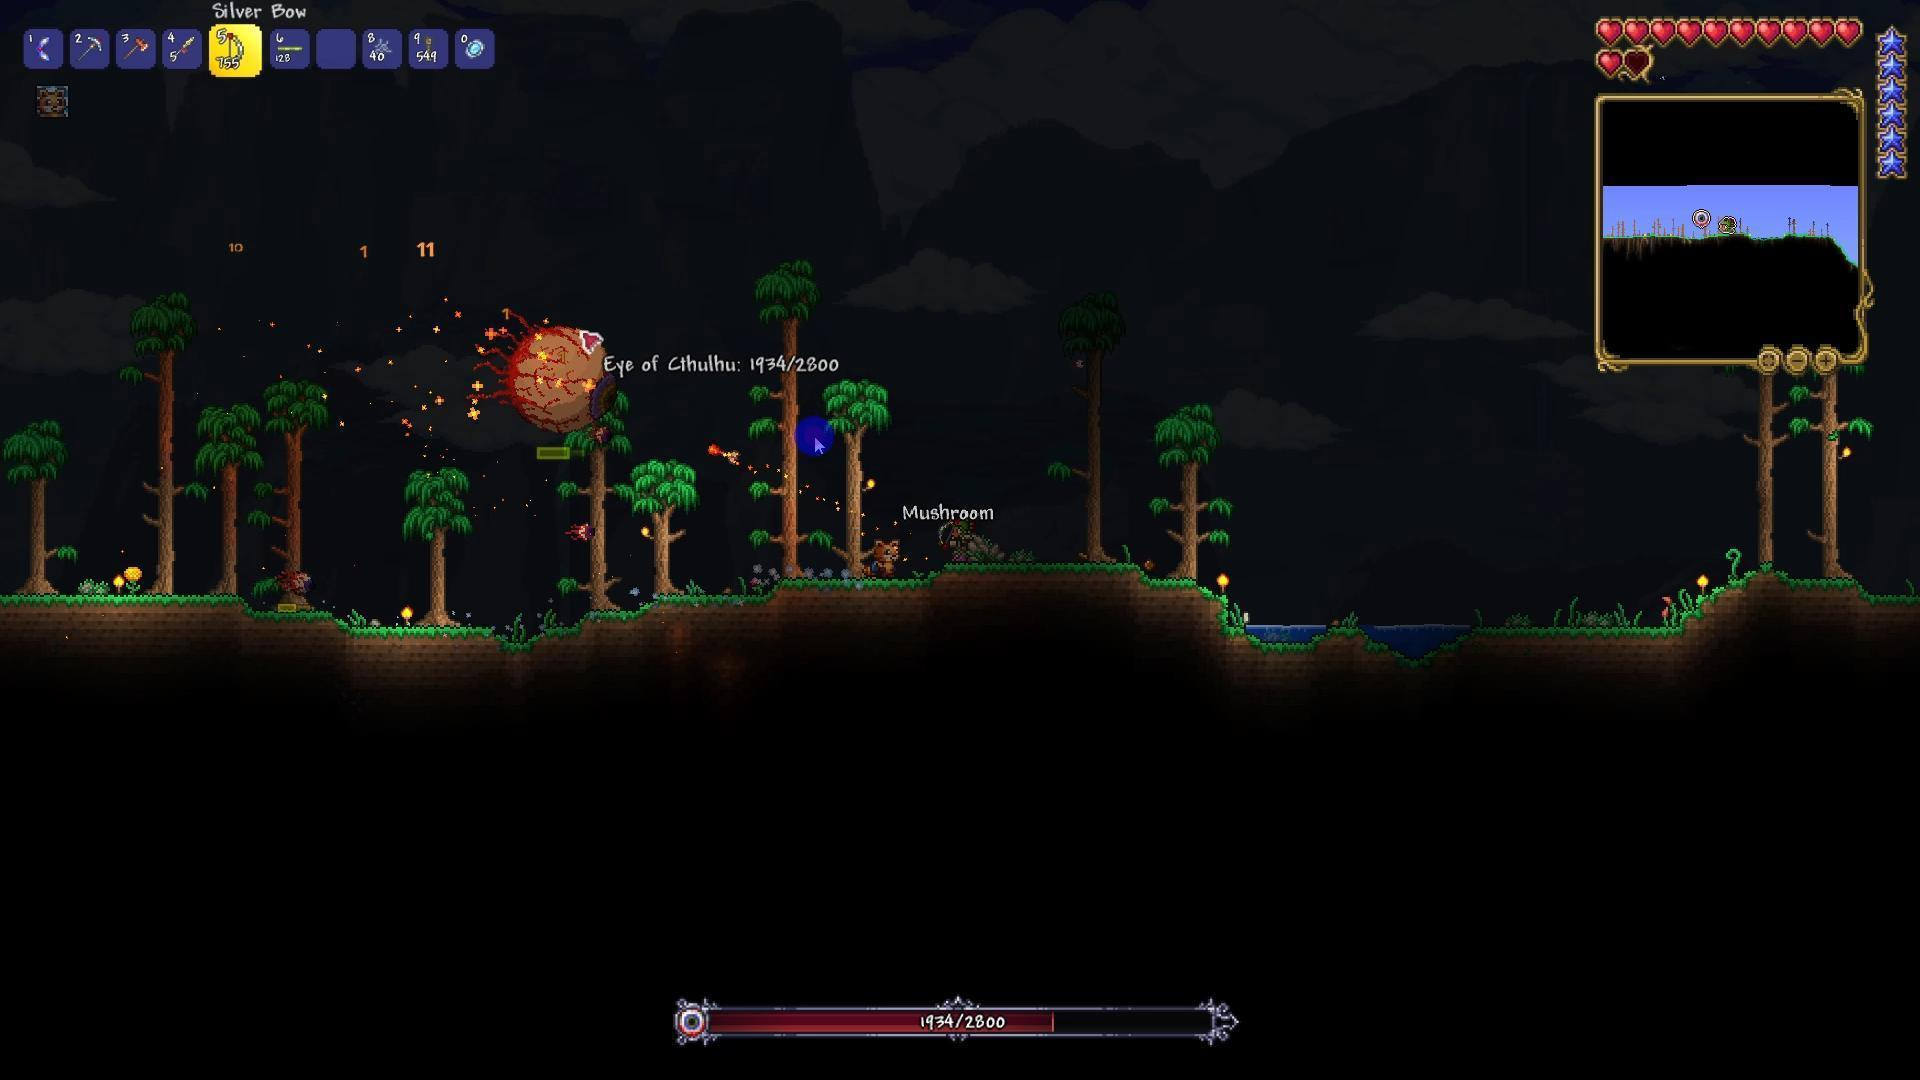cobwebI: (371, 38, 393, 59)
eye: (260, 556, 328, 607), (555, 510, 600, 547)
eyeC: (468, 297, 624, 440)
